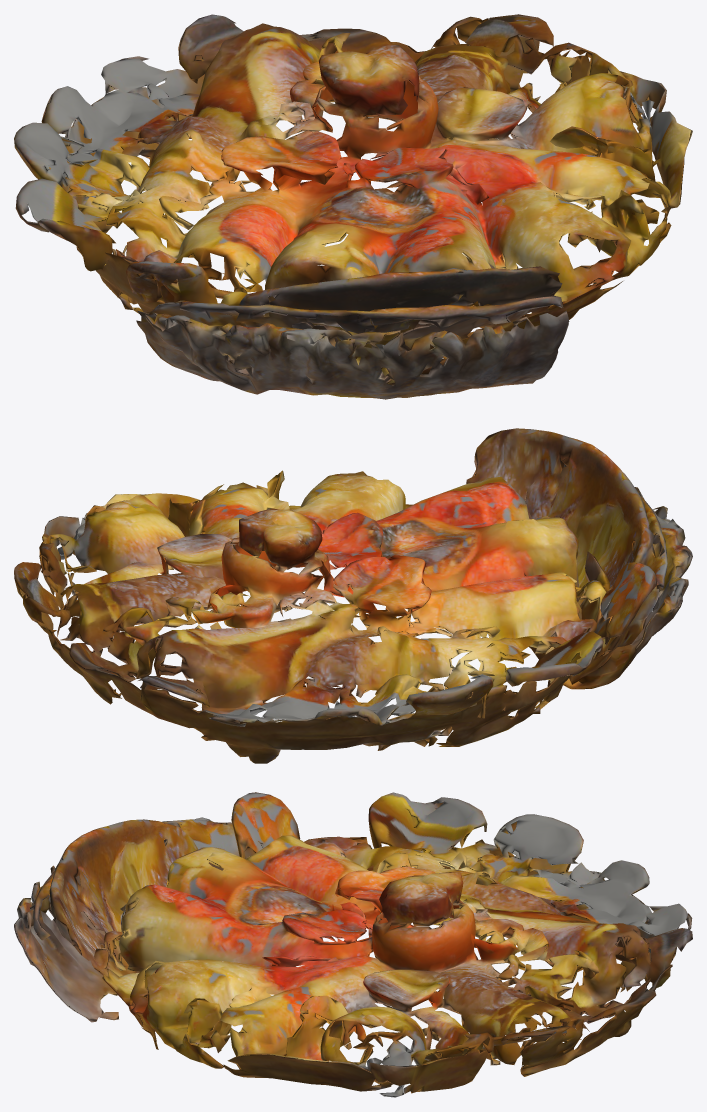
Rendered from dolma.glb.
The picture shows the model from 3 angles, top to bottom: view 1: azimuth 30°, elevation 25°; view 2: azimuth 150°, elevation 25°; view 3: azimuth 270°, elevation 25°; orthographic projection. The views are drawn at different scales.
Parts seen in each view (by area): view 1: tripo_node_882344b4-10e2-4f04-9803-38f7fa367e19; view 2: tripo_node_882344b4-10e2-4f04-9803-38f7fa367e19; view 3: tripo_node_882344b4-10e2-4f04-9803-38f7fa367e19.
Part boxes in pixels (<box>): tripo_node_882344b4-10e2-4f04-9803-38f7fa367e19: <box>14,14,692,399</box>; tripo_node_882344b4-10e2-4f04-9803-38f7fa367e19: <box>14,428,692,763</box>; tripo_node_882344b4-10e2-4f04-9803-38f7fa367e19: <box>14,792,692,1097</box>.
Bounding box in the file's own units: 0.9164 × 0.2789 × 0.9998.
Materials: 1 (1 with a texture image).
